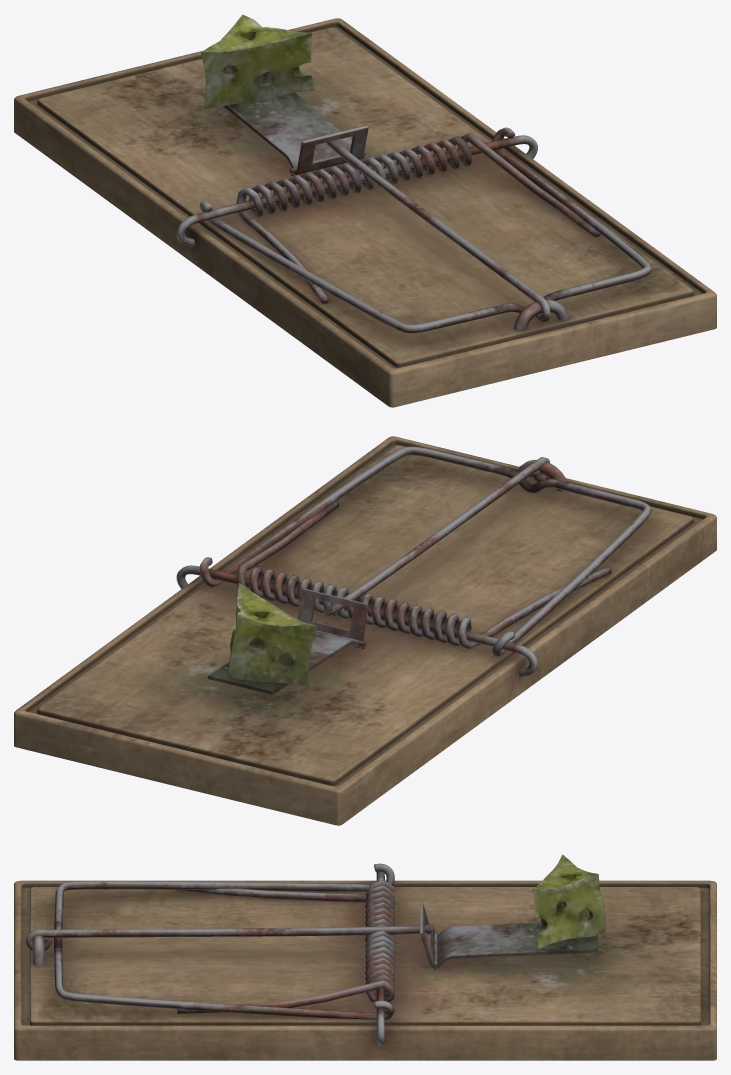
Rendered from mousetrap.glb.
The picture shows the model from 3 angles, top to bottom: view 1: azimuth 30°, elevation 25°; view 2: azimuth 150°, elevation 25°; view 3: azimuth 270°, elevation 25°; orthographic projection. The views are drawn at different scales.
Parts seen in each view (by area): view 1: mousetrap; view 2: mousetrap; view 3: mousetrap.
Part boxes in pixels (x1,y1,x2,y2): mousetrap: (14,14,716,407); mousetrap: (14,436,716,825); mousetrap: (14,854,716,1060).
Size of the model in its own units: 0.055 by 0.0179 by 0.1004.
1 material, 1 textured.
